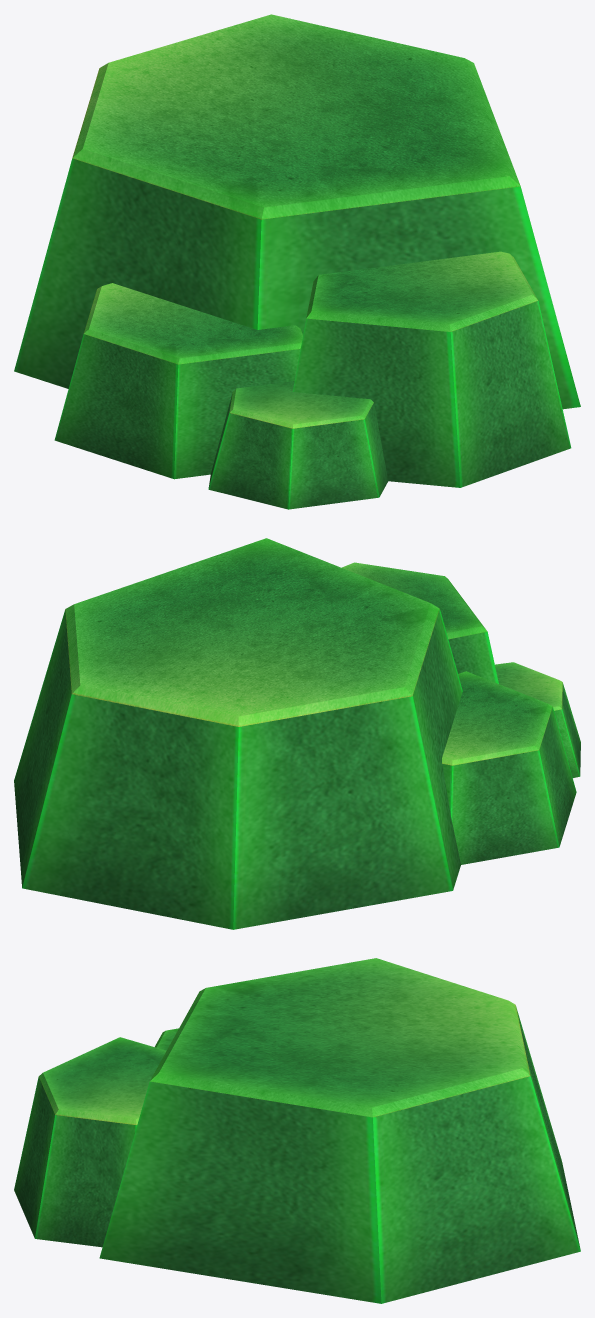
Rendered from static.glb.
3 views of the same model, one above another, from view 1: azimuth 30°, elevation 25°; view 2: azimuth 150°, elevation 25°; view 3: azimuth 270°, elevation 25° (orthographic). The views are drawn at different scales.
Visible parts, largest first — view 1: Cylinder, Cylinder_3, Cylinder_4, Cylinder_2; view 2: Cylinder, Cylinder_4, Cylinder_3, Cylinder_2; view 3: Cylinder, Cylinder_3.
Part boxes in pixels (<box>): Cylinder: <box>14,14,580,409</box>; Cylinder_3: <box>292,251,571,487</box>; Cylinder_4: <box>54,283,302,479</box>; Cylinder_2: <box>208,381,388,509</box>; Cylinder: <box>14,538,462,929</box>; Cylinder_4: <box>442,671,576,864</box>; Cylinder_3: <box>342,562,498,683</box>; Cylinder_2: <box>495,662,580,777</box>; Cylinder: <box>99,958,580,1303</box>; Cylinder_3: <box>14,1037,166,1247</box>.
Size of the model in its own units: 0.8285 by 0.3087 by 0.9246.
2 materials, 2 textured.
